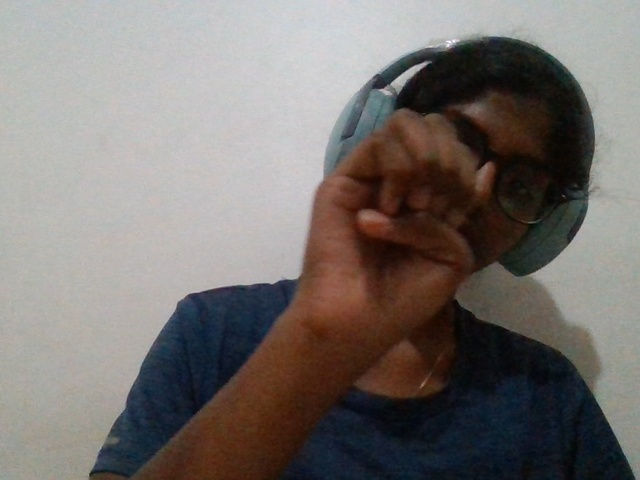E: (259, 85, 507, 419)
